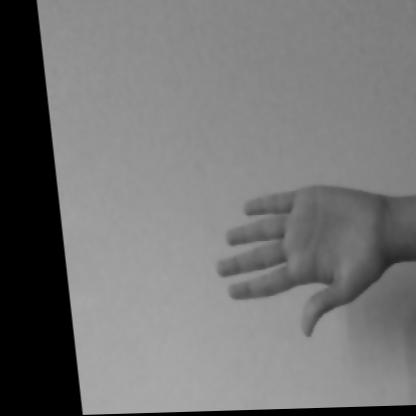palm: (191, 136, 415, 354)
